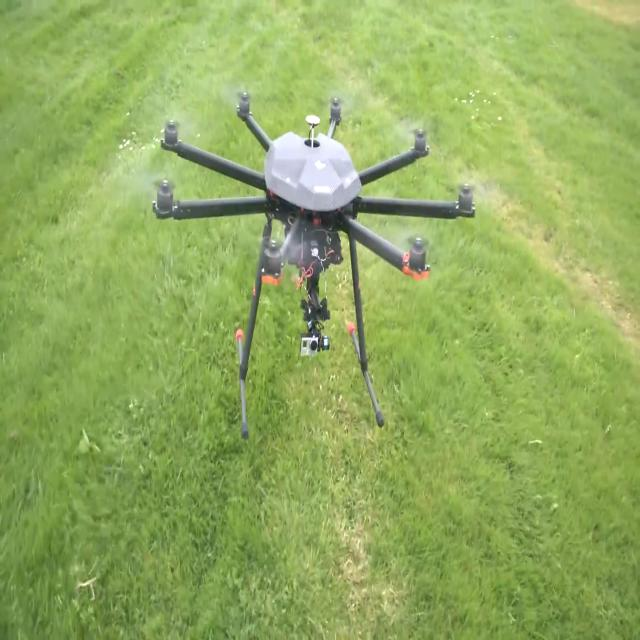drone: (158, 89, 480, 428)
